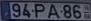4: (21, 3, 31, 18)
6: (72, 4, 81, 19)
8: (62, 3, 72, 19)
9: (10, 2, 21, 18)
A: (46, 3, 60, 18)
P: (33, 3, 46, 18)
